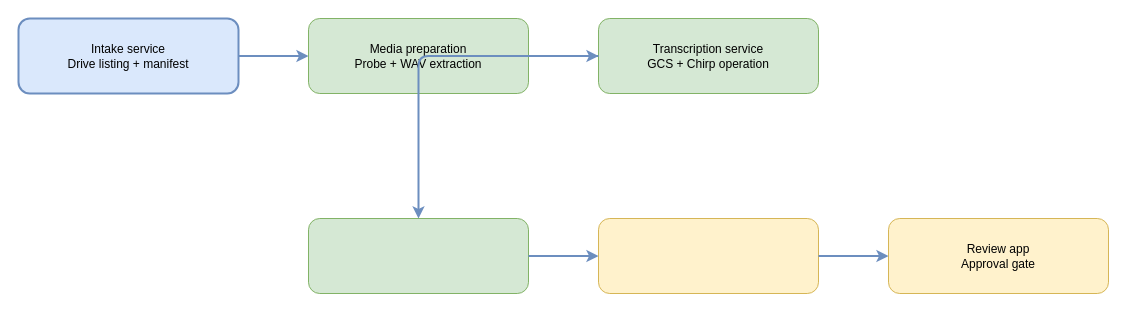
Some shapes in this 1126 by 311 pixel diagram are drawn without their labels. Here are the shapes that lost their labels. From the top down, the centre of each, then its label:
At point (418, 256): "Extraction service L1 schema validation".
At point (708, 256): "Catalog service Idempotent draft upsert".
